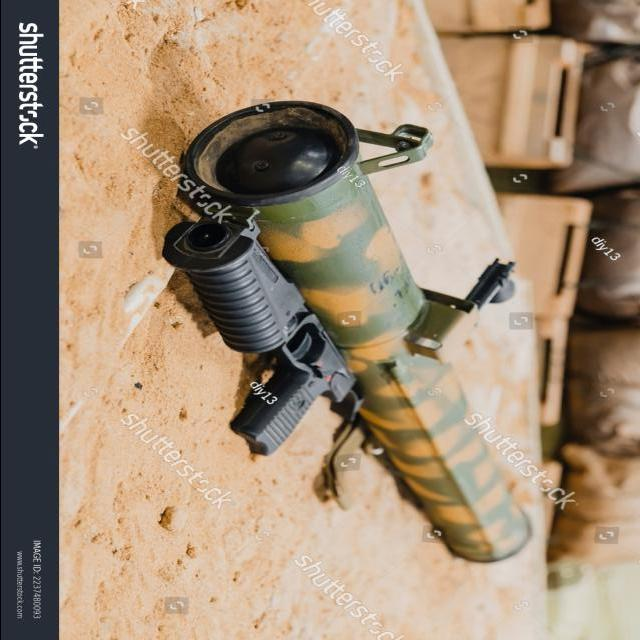rocket launcher: (160, 107, 547, 577)
